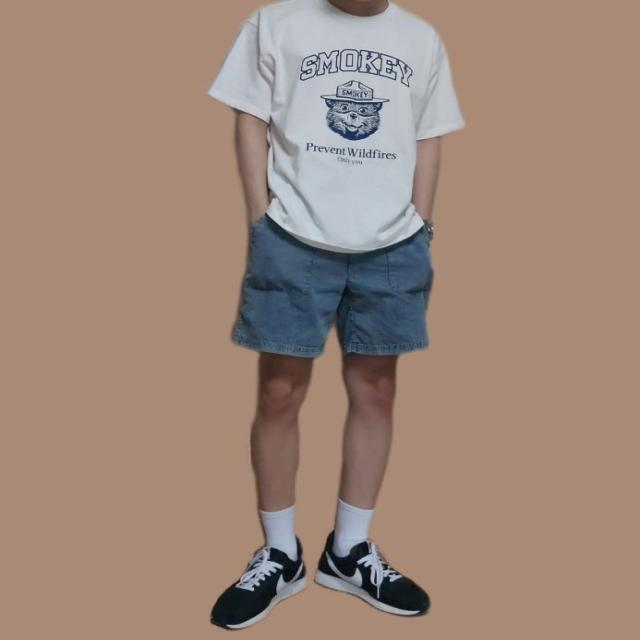shortpants: (229, 209, 437, 358)
shortsleeve: (205, 0, 464, 253)
